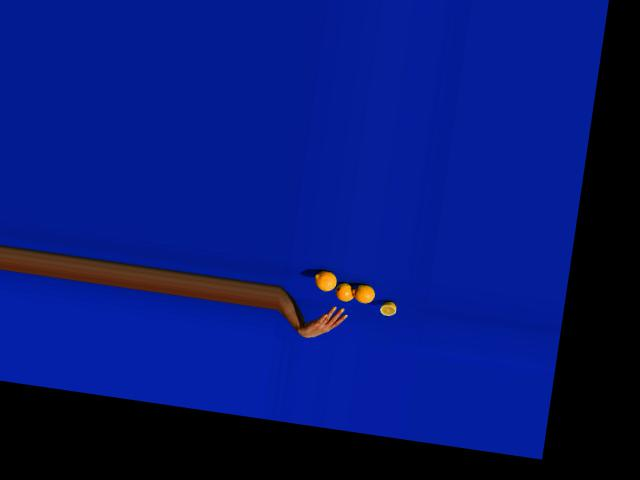lemon: (351, 285, 377, 305)
